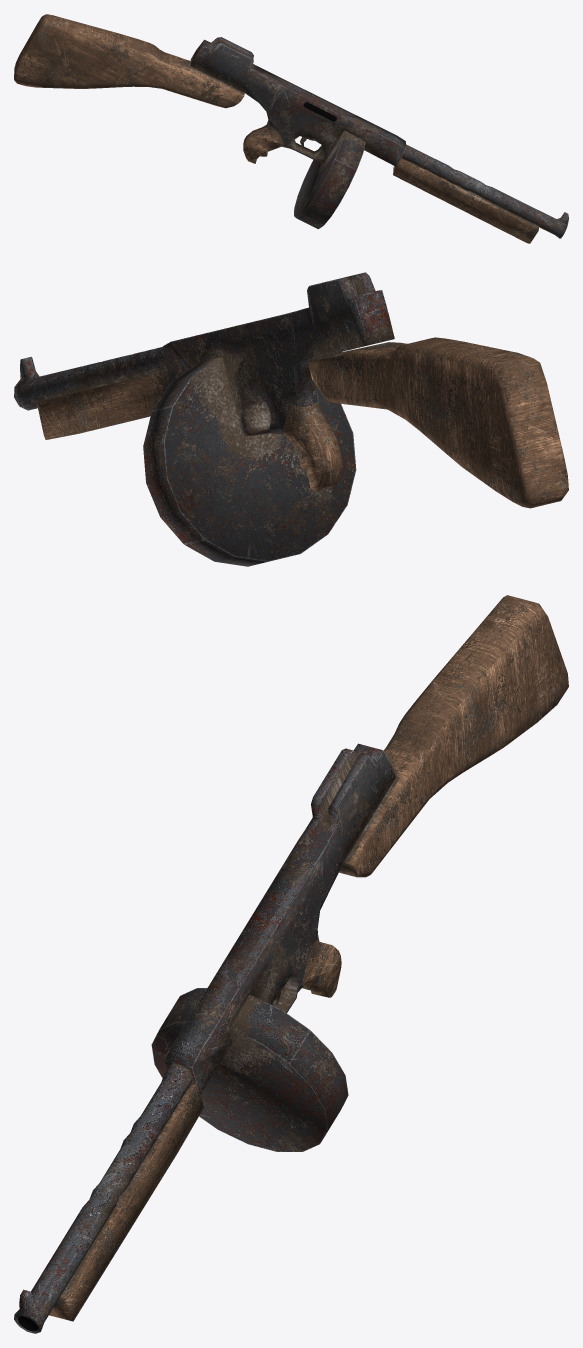
Rendered from Anim_disparar_ametralladora_objetos.0017.obj.
The picture shows the model from 3 angles, top to bottom: view 1: azimuth 30°, elevation 25°; view 2: azimuth 150°, elevation 25°; view 3: azimuth 270°, elevation 25°; orthographic projection. The views are drawn at different scales.
Parts seen in each view (by area): view 1: Ametralladora1; view 2: Ametralladora1; view 3: Ametralladora1.
Boxes of the visible parts, left/top/right/bottom form: Ametralladora1: left=14, top=14, right=568, bottom=243; Ametralladora1: left=14, top=272, right=568, bottom=566; Ametralladora1: left=14, top=595, right=568, bottom=1333.
Bounding box in the file's own units: 5.09 × 2.54 × 3.2.
Materials: 1 (1 with a texture image).
